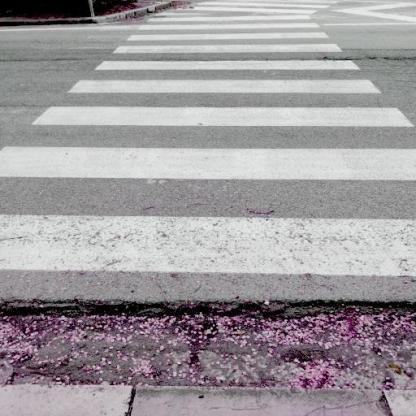crosswalk: (25, 76, 416, 136), (106, 30, 345, 58)
